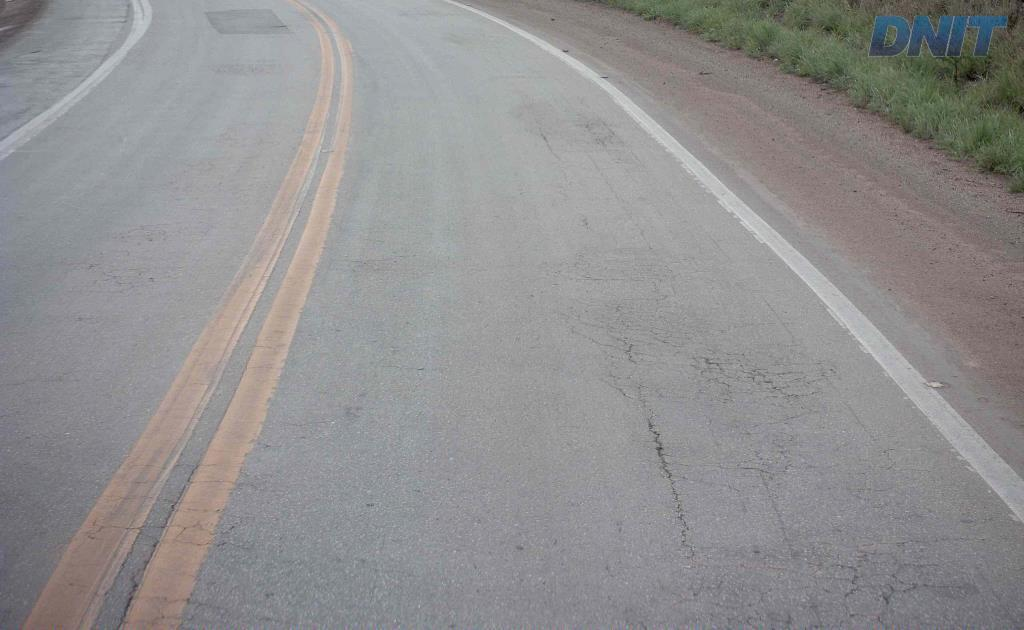crack: (647, 408, 695, 550), (696, 357, 735, 396), (930, 580, 980, 600), (585, 118, 617, 147)
